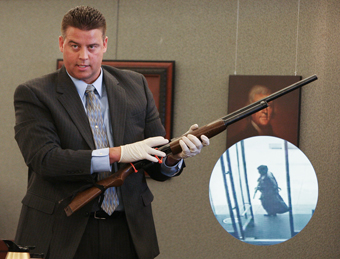pistol: (64, 72, 318, 218)
